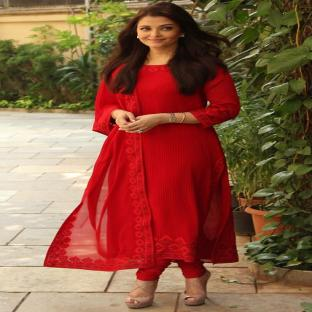Human: (44, 2, 239, 308)
